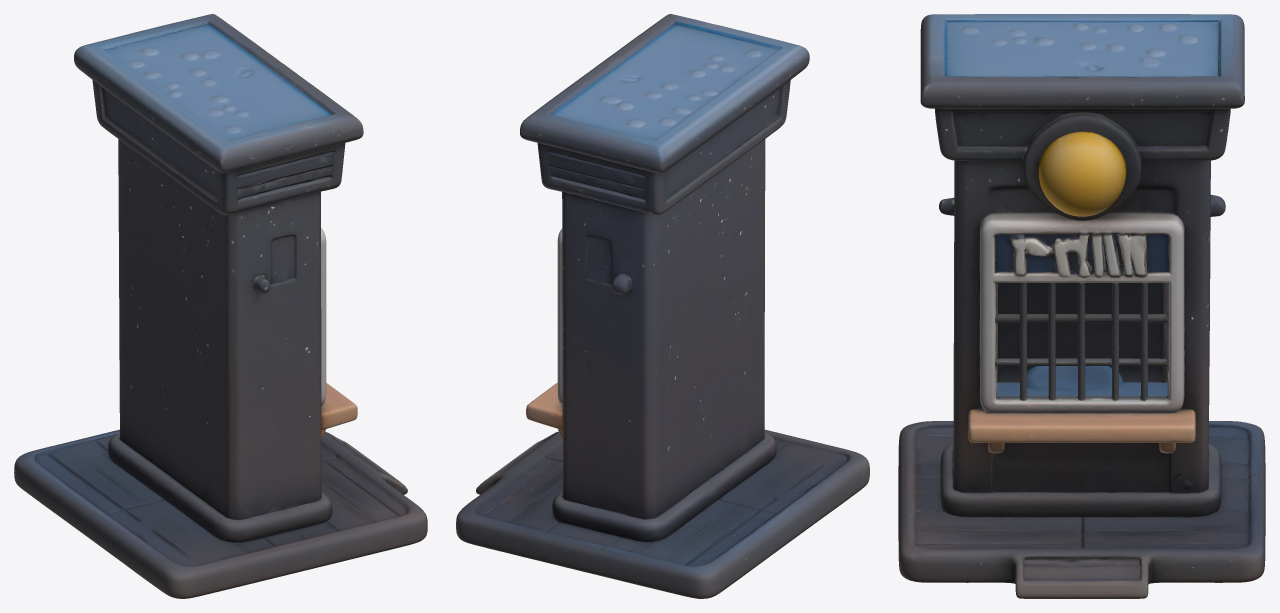
The model's file is building-pawn-shop.glb.
The picture shows the model from 3 angles, left to right: view 1: azimuth 30°, elevation 25°; view 2: azimuth 150°, elevation 25°; view 3: azimuth 270°, elevation 25°; orthographic projection. The views are drawn at different scales.
Visible parts, largest first — view 1: tripo_node_16fbbafa-4105-4588-9b88-7eadb8675545; view 2: tripo_node_16fbbafa-4105-4588-9b88-7eadb8675545; view 3: tripo_node_16fbbafa-4105-4588-9b88-7eadb8675545.
Part boxes in pixels (bbox=[...]): tripo_node_16fbbafa-4105-4588-9b88-7eadb8675545: bbox=[14, 14, 427, 598]; tripo_node_16fbbafa-4105-4588-9b88-7eadb8675545: bbox=[456, 14, 869, 598]; tripo_node_16fbbafa-4105-4588-9b88-7eadb8675545: bbox=[898, 14, 1265, 598].
Size of the model in its own units: 3.5 by 5 by 3.55.
Materials: 1 (1 with a texture image).
